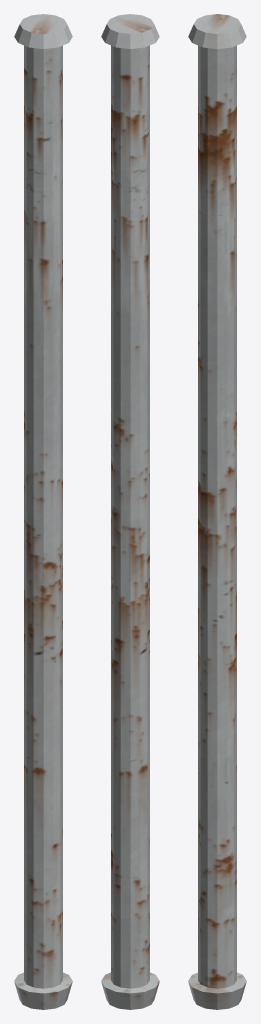
File: small_tube3.glb
The picture shows the model from 3 angles, left to right: view 1: azimuth 90°, elevation 25°; view 2: azimuth 150°, elevation 25°; view 3: azimuth 270°, elevation 25°; orthographic projection.
Visible parts, largest first — view 1: small_tube3; view 2: small_tube3; view 3: small_tube3.
Boxes of the visible parts, bbox=[...] form: small_tube3: bbox=[14, 14, 72, 1009]; small_tube3: bbox=[101, 14, 159, 1009]; small_tube3: bbox=[188, 14, 246, 1009].
Size of the model in its own units: 0.1335 by 2.44 by 0.1335.
1 material, 1 textured.
